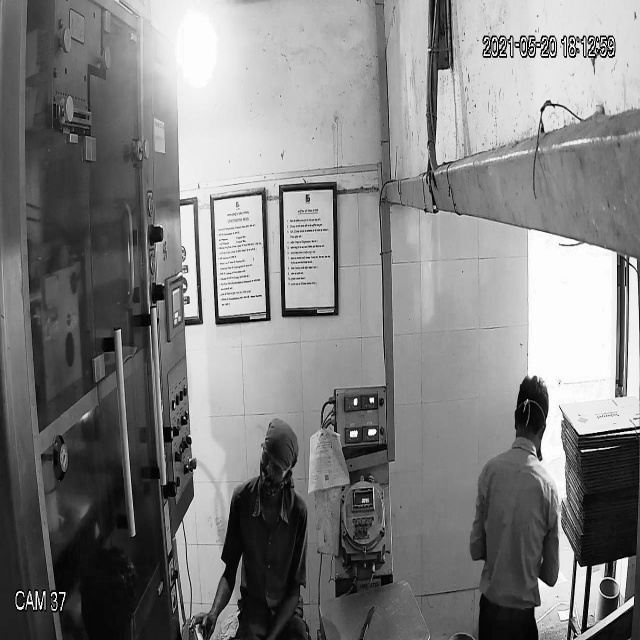Gafas: (256, 444, 293, 482)
